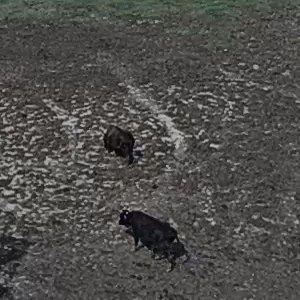cow: (113, 201, 197, 270), (90, 109, 153, 172)
